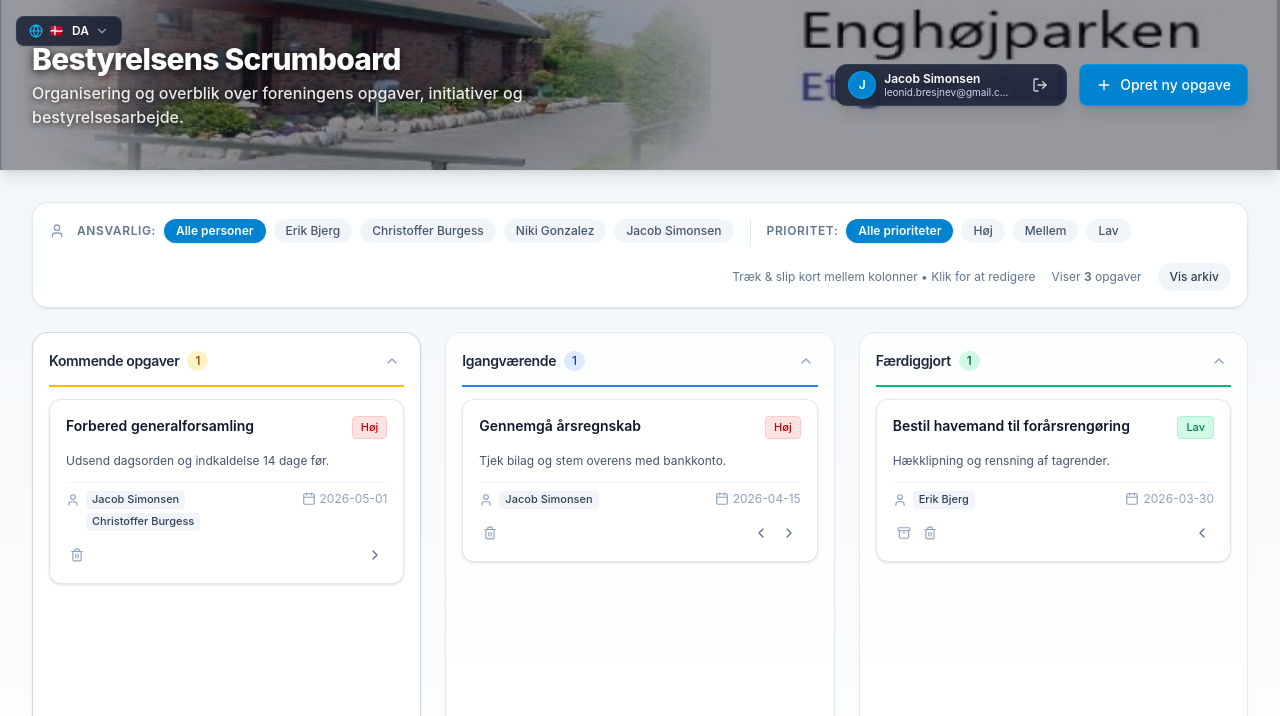
it: Scrumboard Tests with Mock Data › allows adding a new card with modal form
Note: Click "Opret ny opgave"
Click the button "Opret ny opgave": (1164, 85) [1079, 64, 1248, 106]
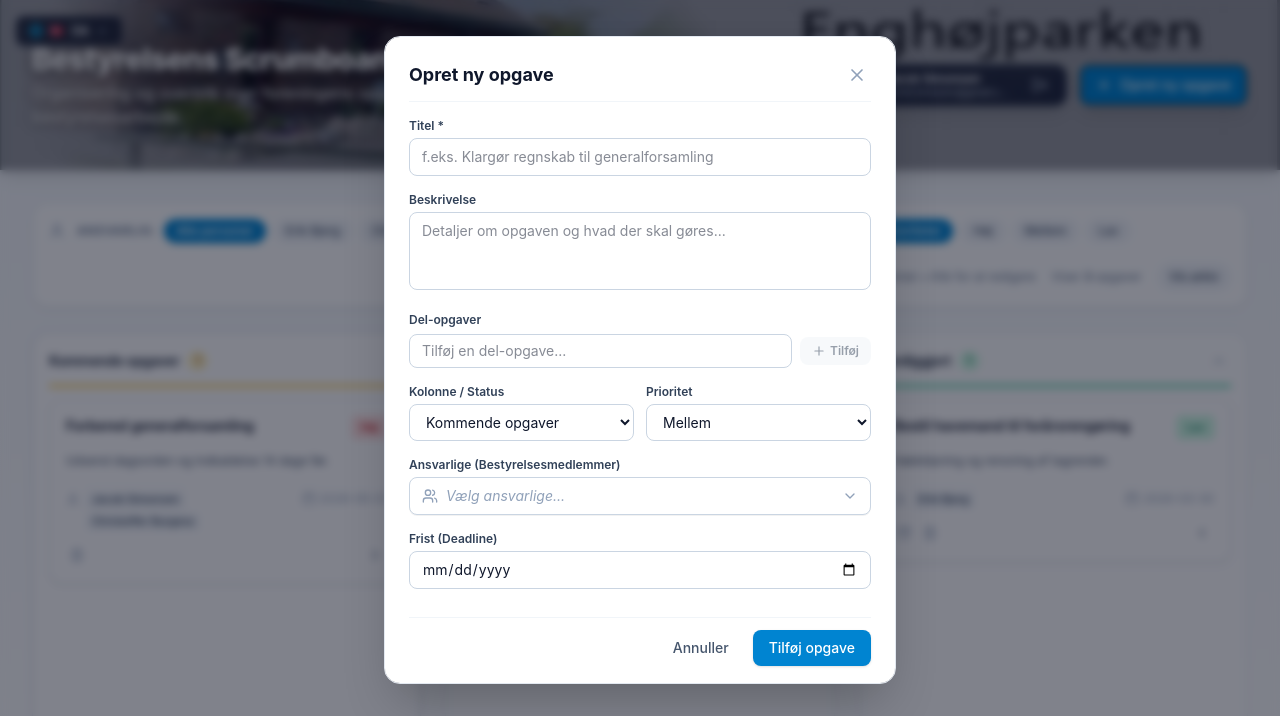
Expected: the heading "Opret ny opgave" is shown, [409, 61, 554, 89]
In the field with placeholder "f.eks. Klargør regnskab til generalforsamling": (640, 157) [409, 138, 871, 176], type "Ny legepladsinspektion"
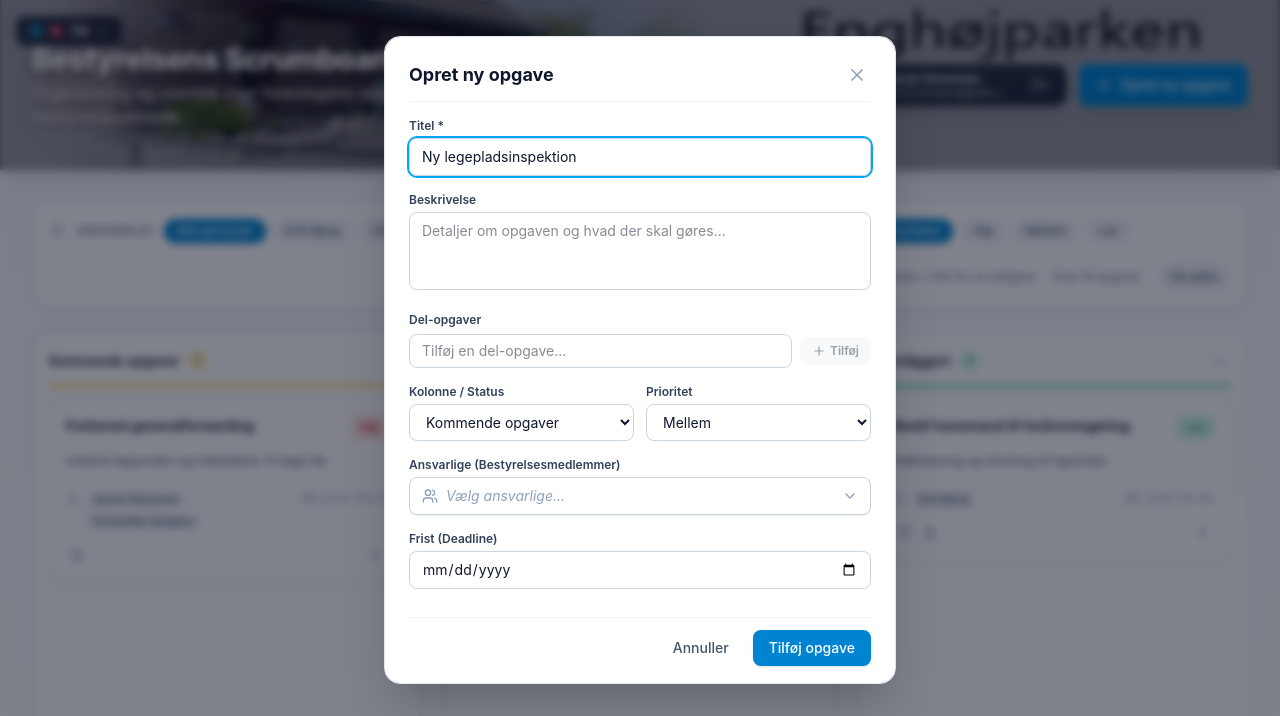
In the text box with placeholder "Detaljer om opgaven og hvad der skal gøres...": (640, 251) [409, 212, 871, 290], type "Årligt sikkerhedstjek af gynger og klatrestativ."
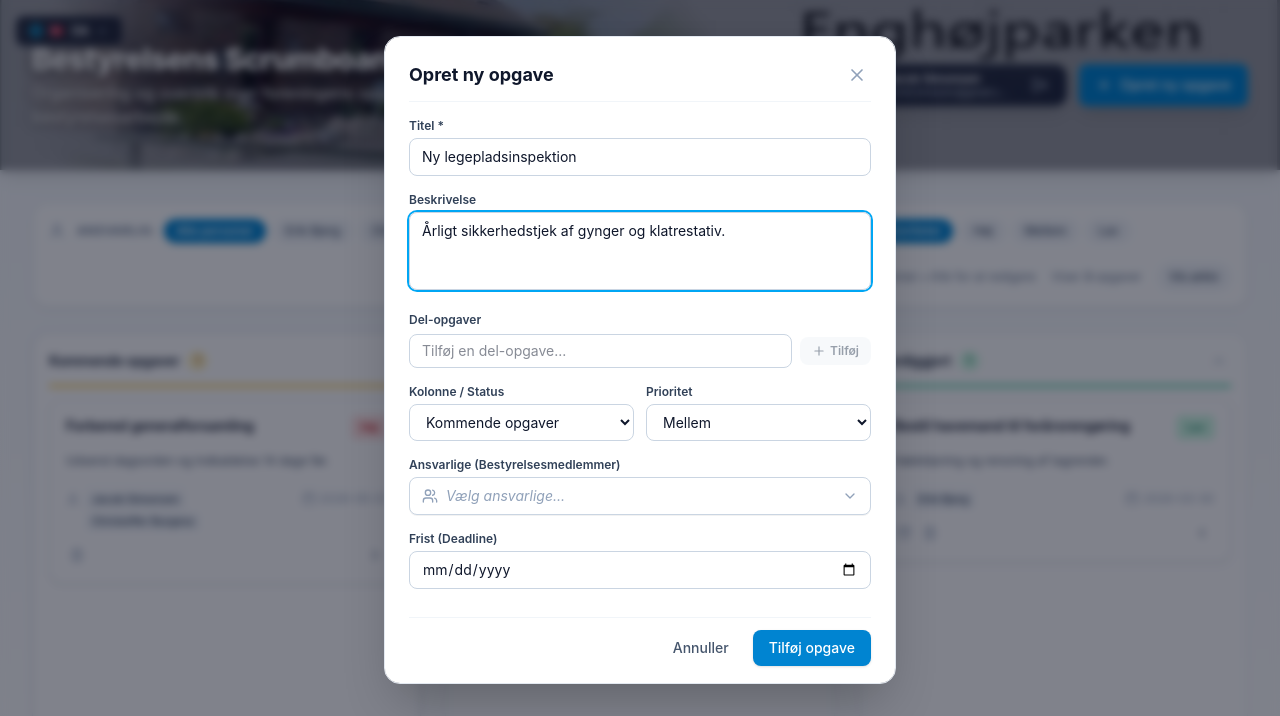
Note: Submit form
Click the button "Tilføj opgave": (812, 648) [753, 630, 871, 666]
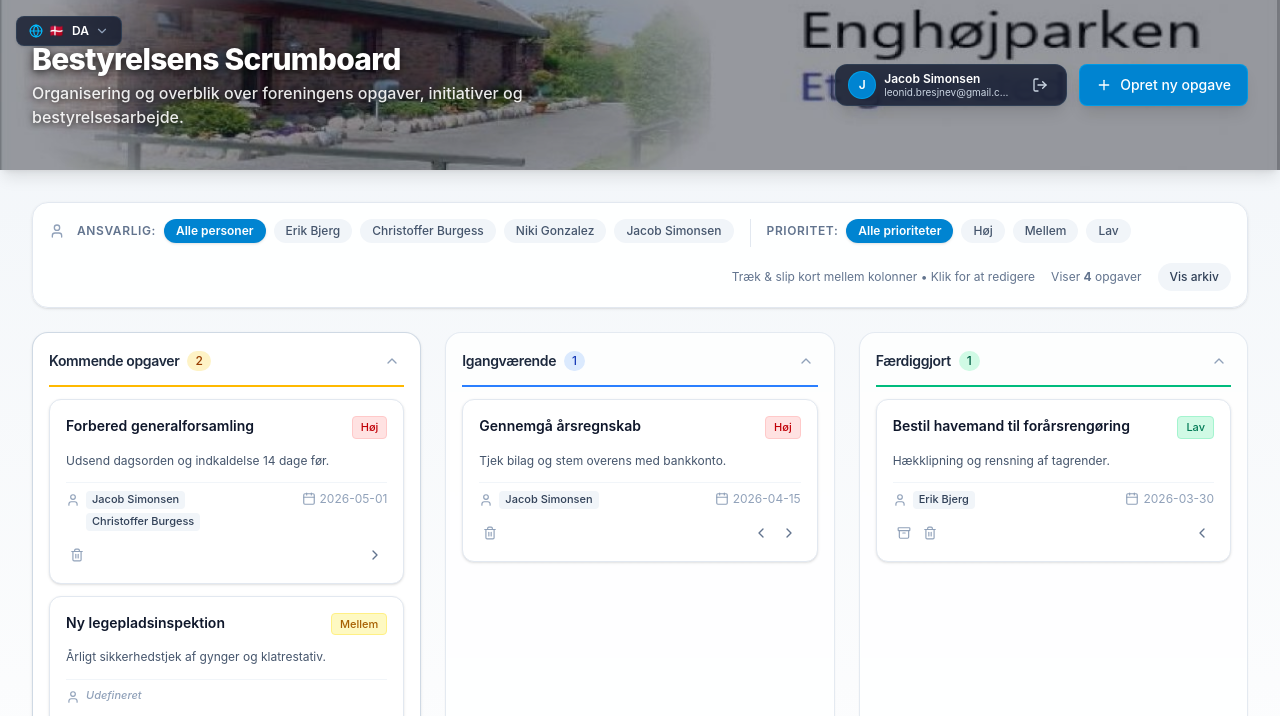
Expected: the heading "Ny legepladsinspektion" is shown, [66, 614, 225, 630]
Expected: the text "Årligt sikkerhedstjek af gynger og klatrestativ." is shown, [66, 649, 326, 664]
